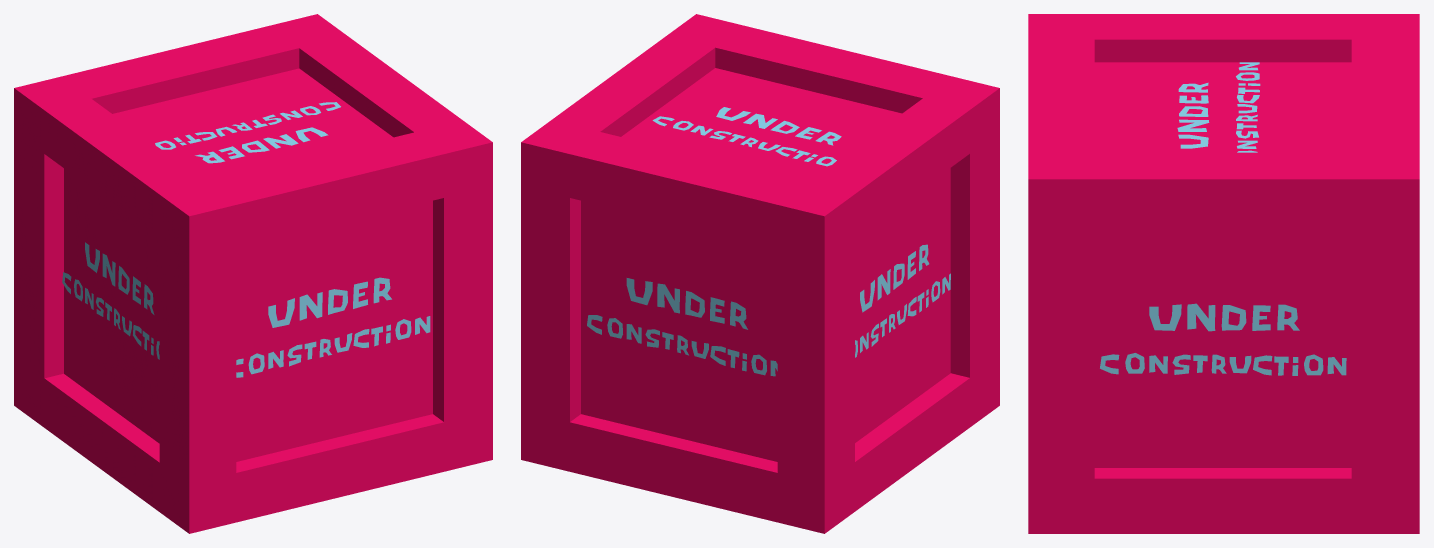
The model's file is UnderConstruction.gltf.
3 renders of one model, left to right at view 1: azimuth 30°, elevation 25°; view 2: azimuth 150°, elevation 25°; view 3: azimuth 270°, elevation 25°, orthographic. The views are drawn at different scales.
Parts seen in each view (by area): view 1: Cube, Plane, Plane.003, Plane.004; view 2: Cube, Plane.001, Plane.003, Plane.004; view 3: Cube, Plane.002, Plane.004.
Part boxes in pixels (bbox=[...]): Cube: bbox=[14, 14, 492, 533]; Plane: bbox=[236, 277, 430, 377]; Plane.003: bbox=[62, 242, 159, 359]; Plane.004: bbox=[155, 102, 340, 163]; Cube: bbox=[521, 14, 999, 533]; Plane.001: bbox=[587, 278, 777, 376]; Plane.003: bbox=[855, 244, 950, 357]; Plane.004: bbox=[652, 107, 841, 166]; Cube: bbox=[1028, 14, 1419, 533]; Plane.002: bbox=[1100, 303, 1346, 375]; Plane.004: bbox=[1177, 62, 1260, 152].
Size of what is drawn, in the model's own units: 2 by 2 by 2.
2 materials, 2 textured.
